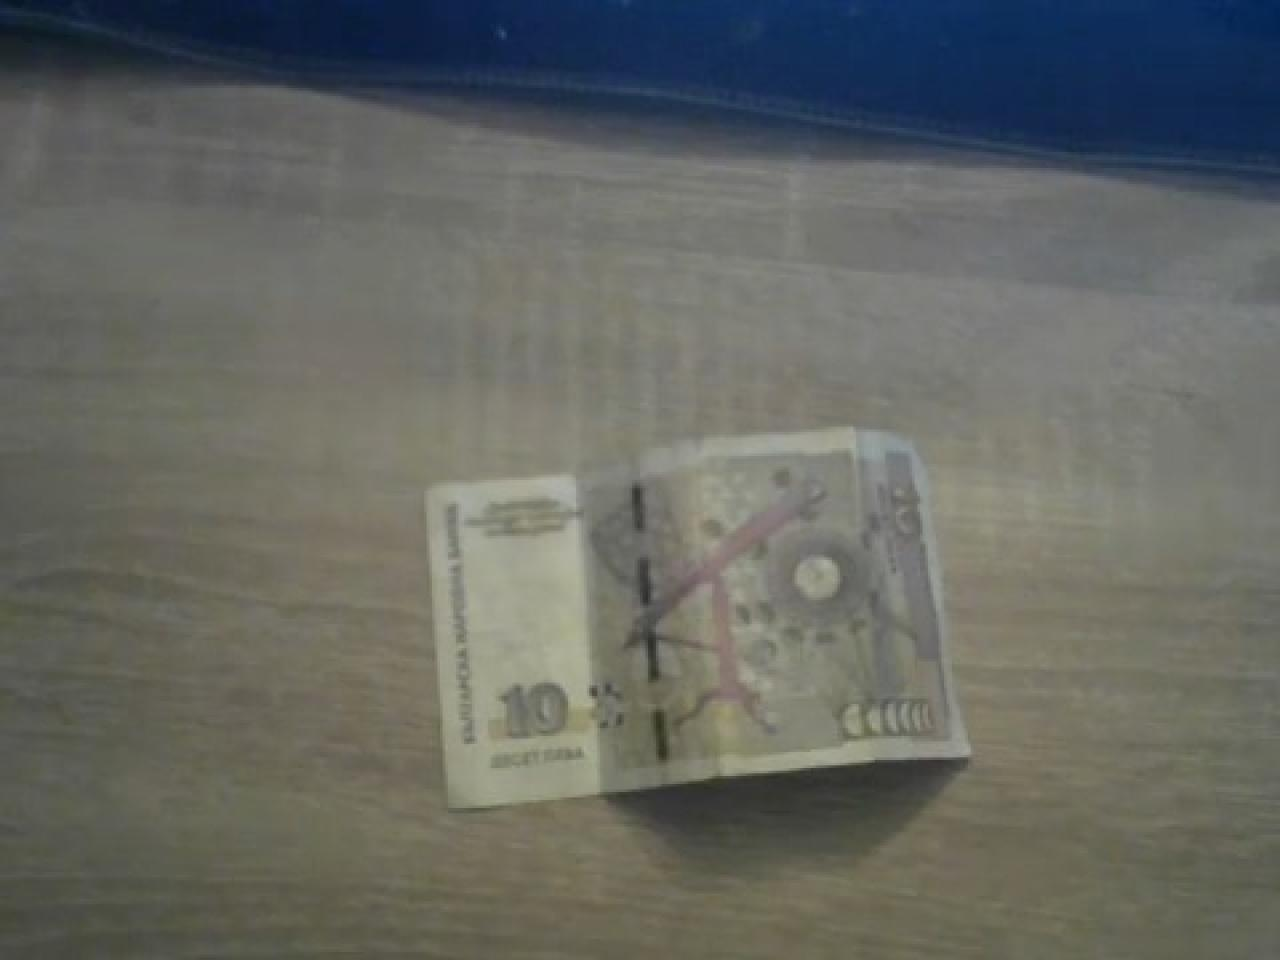10leva: (424, 432, 971, 814), (426, 432, 968, 814)
